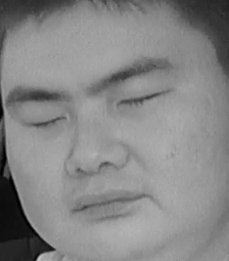blink: (116, 83, 167, 117), (21, 106, 71, 136)
mouth: (66, 183, 150, 228)
